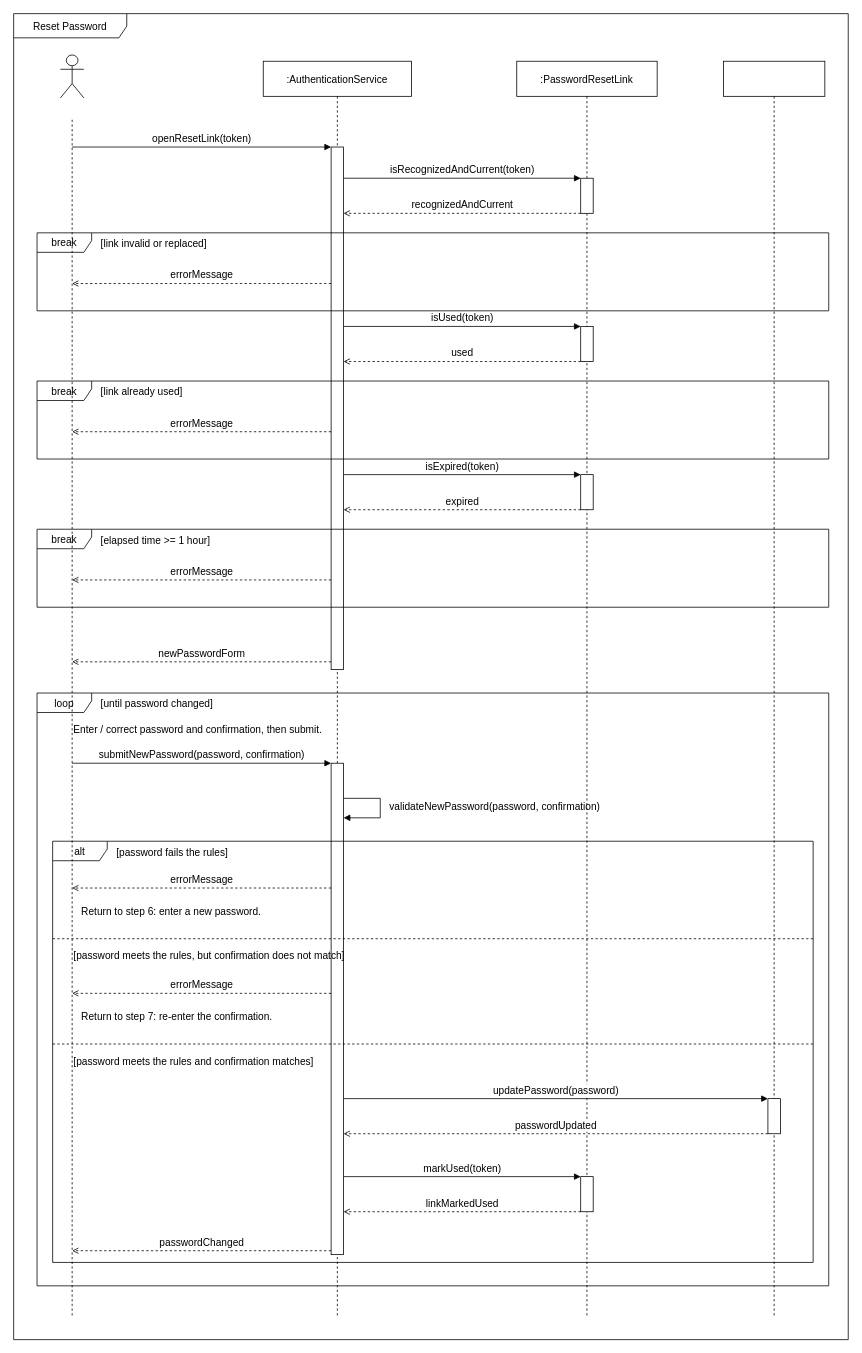
Some shapes in this 862 by 1353 pixel diagram are drawn without their labels. The shapes that lost their labels are listed below. From the top down, each one's centre as x and y in pixels, then its label:
(x=72, y=76): User
(x=774, y=78): :Account
